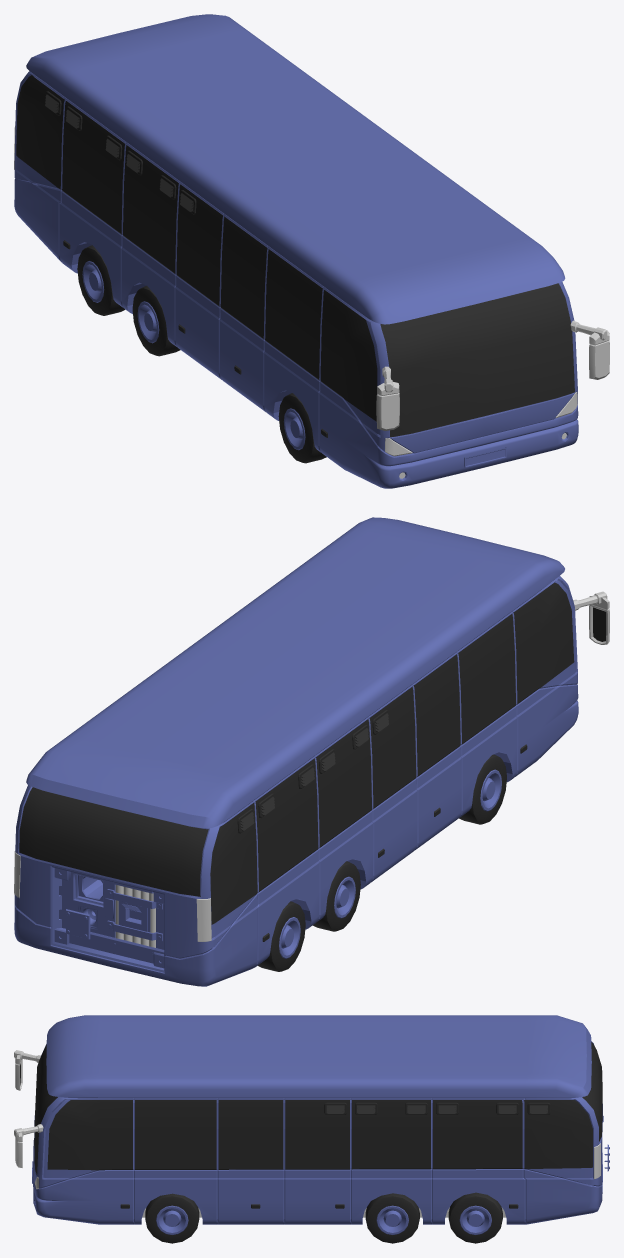
The model's file is Bus model.fbx.
3 views of the same model, one above another, from view 1: azimuth 30°, elevation 25°; view 2: azimuth 150°, elevation 25°; view 3: azimuth 270°, elevation 25° (orthographic). The views are drawn at different scales.
Visible parts, largest first — view 1: Cube; view 2: Cube, Panel_Base_01; view 3: Cube.
Boxes of the visible parts, bbox=[...] form: Cube: bbox=[14, 14, 609, 488]; Cube: bbox=[14, 517, 609, 986]; Panel_Base_01: bbox=[51, 866, 165, 972]; Cube: bbox=[14, 1015, 602, 1243].
Size of the model in its own units: 312 by 276 by 922.
